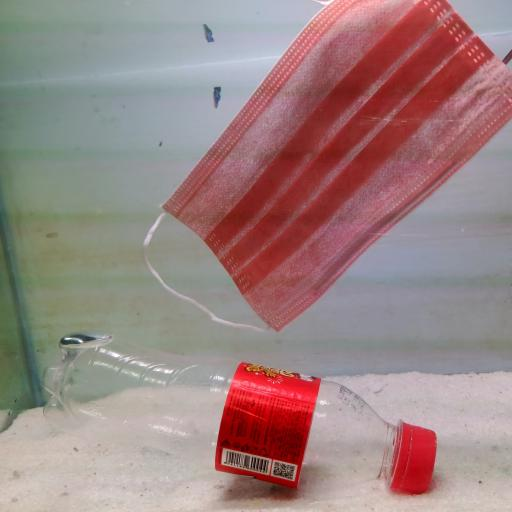bottle_cap: (394, 412, 439, 498)
mask: (136, 0, 512, 333)
plastic_bottle: (46, 332, 437, 512)
